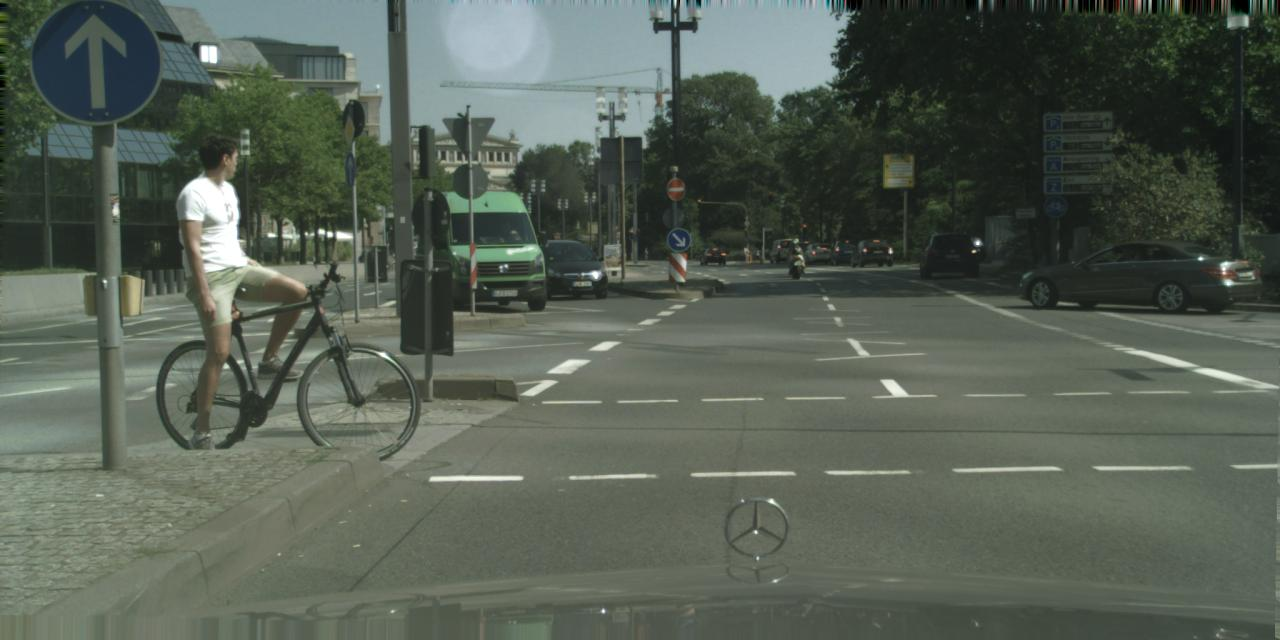ped: (175, 133, 290, 416)
